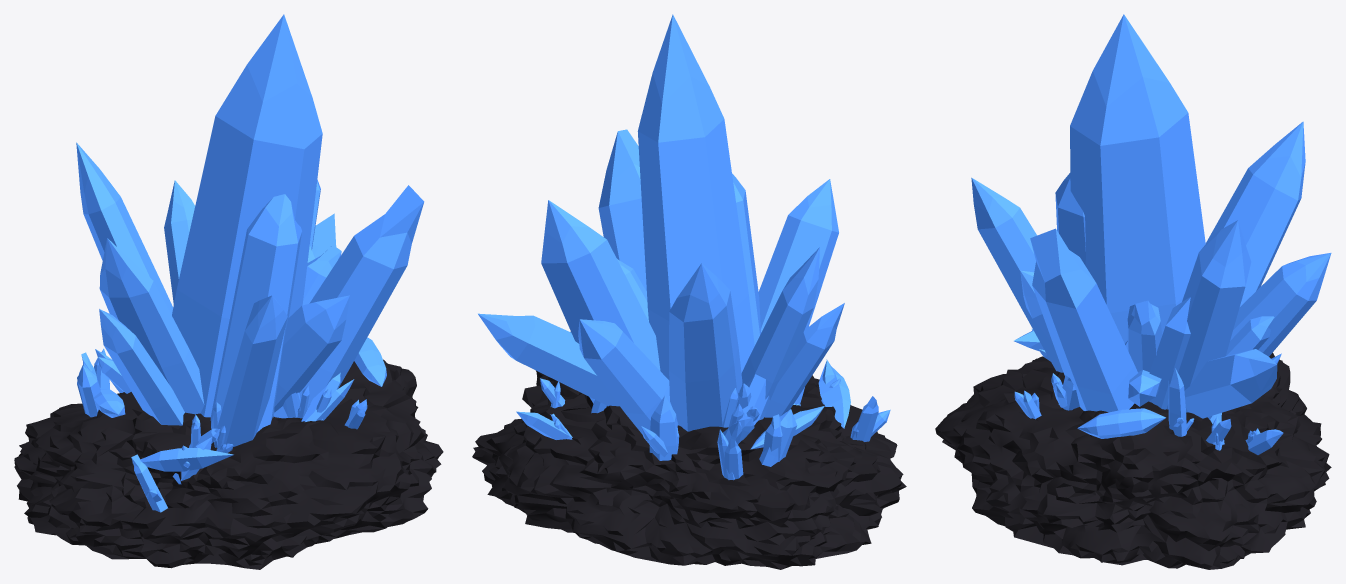
Rendered from Crystals_01_web.glb.
3 renders of one model, left to right at view 1: azimuth 30°, elevation 25°; view 2: azimuth 150°, elevation 25°; view 3: azimuth 270°, elevation 25°, orthographic. The views are drawn at different scales.
Visible parts, largest first — view 1: Crystals_01_Crystals, Crystals_01_Rock; view 2: Crystals_01_Crystals, Crystals_01_Rock; view 3: Crystals_01_Crystals, Crystals_01_Rock.
Boxes of the visible parts, x1,y1,x2,y2 form: Crystals_01_Crystals: (76, 14, 424, 512); Crystals_01_Rock: (14, 359, 443, 569); Crystals_01_Crystals: (478, 14, 890, 480); Crystals_01_Rock: (472, 370, 906, 569); Crystals_01_Crystals: (971, 14, 1331, 454); Crystals_01_Rock: (935, 352, 1331, 569).
Bounding box in the file's own units: 5.25 × 5.95 × 4.43.
